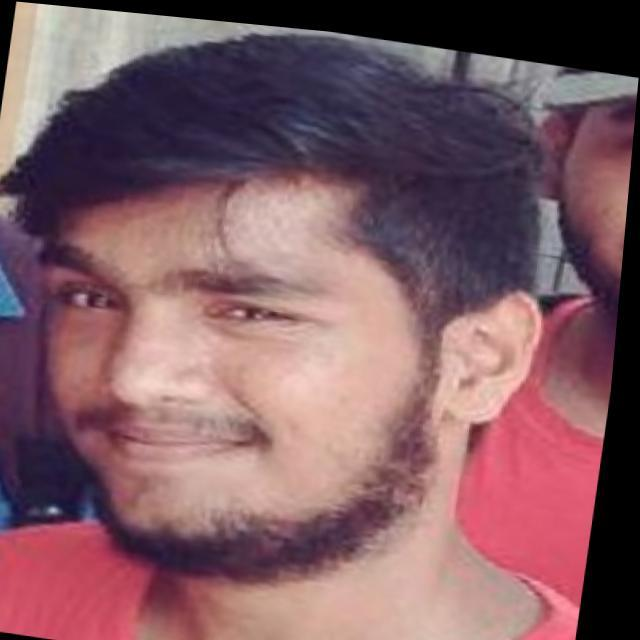Nonhelmet: (2, 28, 548, 586)
